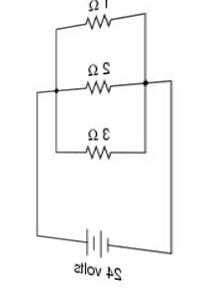resistor: (79, 6, 111, 34), (76, 78, 122, 97), (79, 141, 120, 157)
